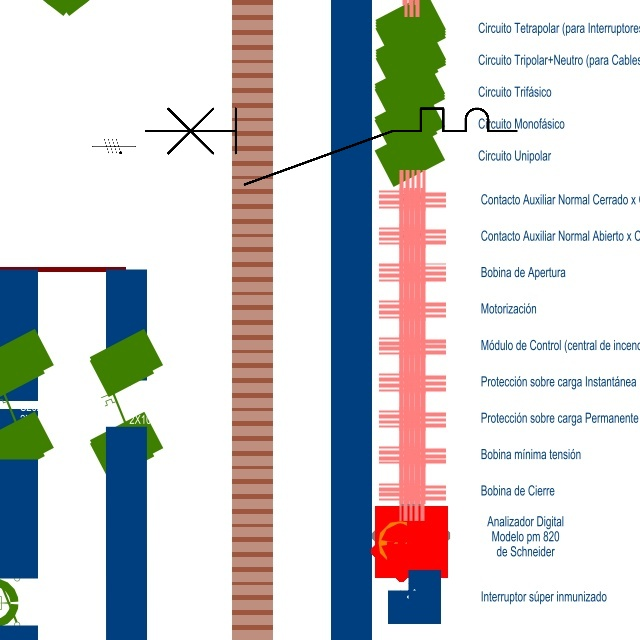interruptor_termomagnetico: (136, 99, 525, 194)
